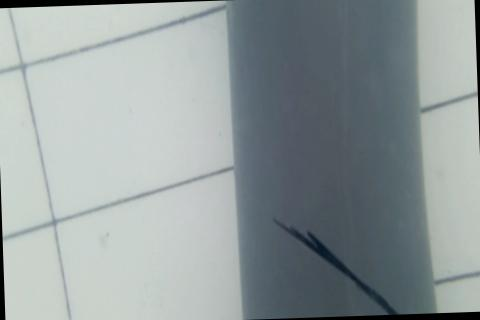keretakan: (269, 209, 417, 319)
